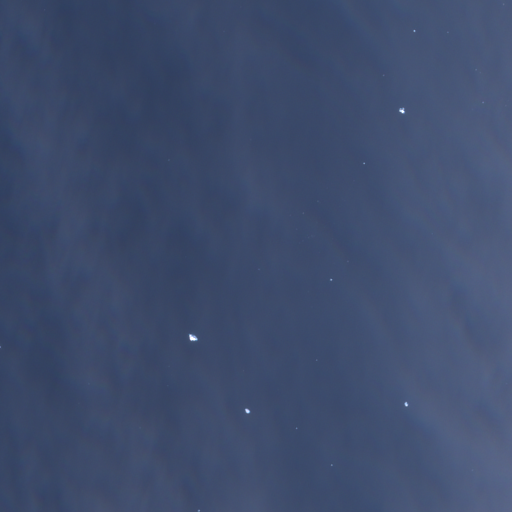Iceberg: (189, 333, 197, 341), (399, 107, 404, 113), (244, 408, 250, 413), (404, 402, 408, 406), (413, 29, 415, 32), (329, 278, 332, 280), (197, 509, 200, 511), (363, 162, 364, 164), (295, 427, 297, 428), (316, 359, 317, 360), (331, 464, 332, 465)
